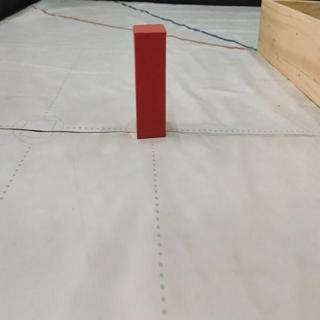redbox: (133, 24, 167, 139)
